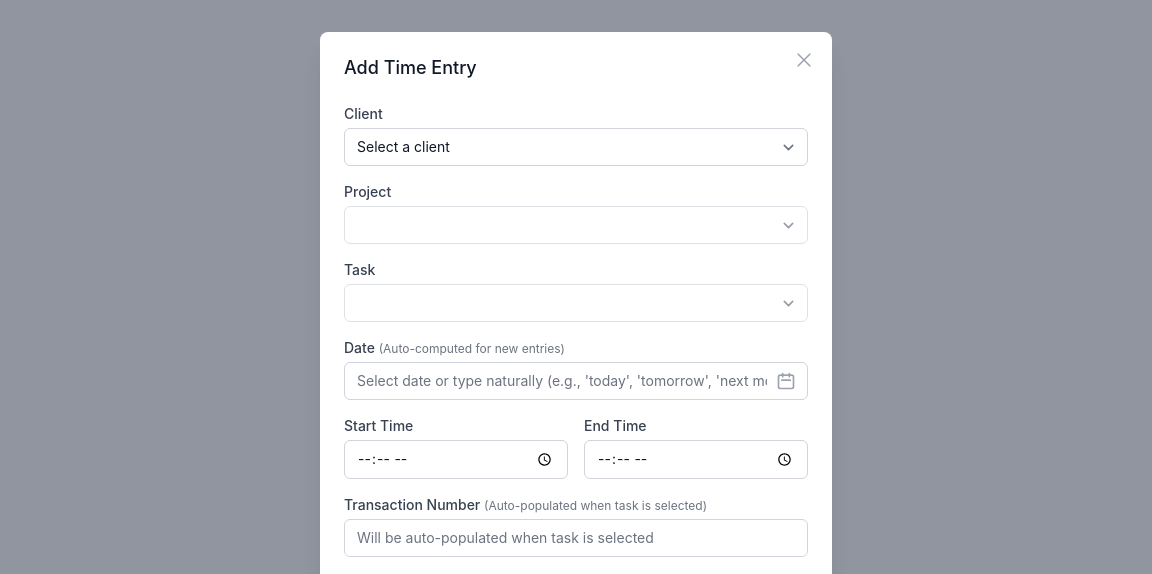
Test case: TimeEntryModal › calculates hours correctly based on start and end time
Replace the text in the field with id "date" with "2023-01-01" at (576, 381), box [344, 362, 808, 400]
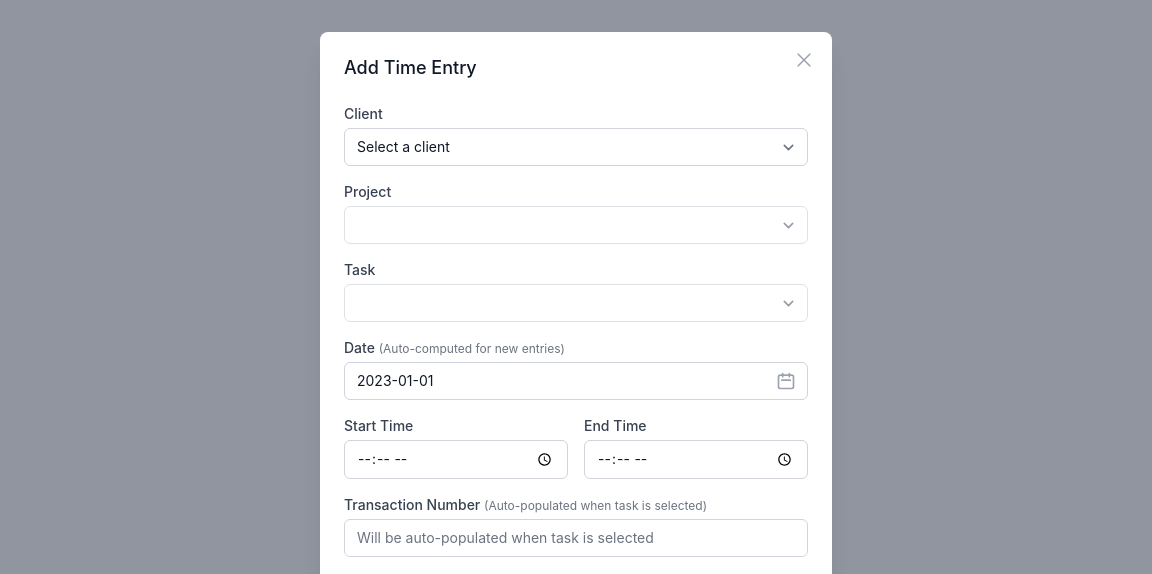
Type "09:00" into the time field with id "start_time".
click(456, 459); type("09:00")  # box [344, 440, 568, 479]
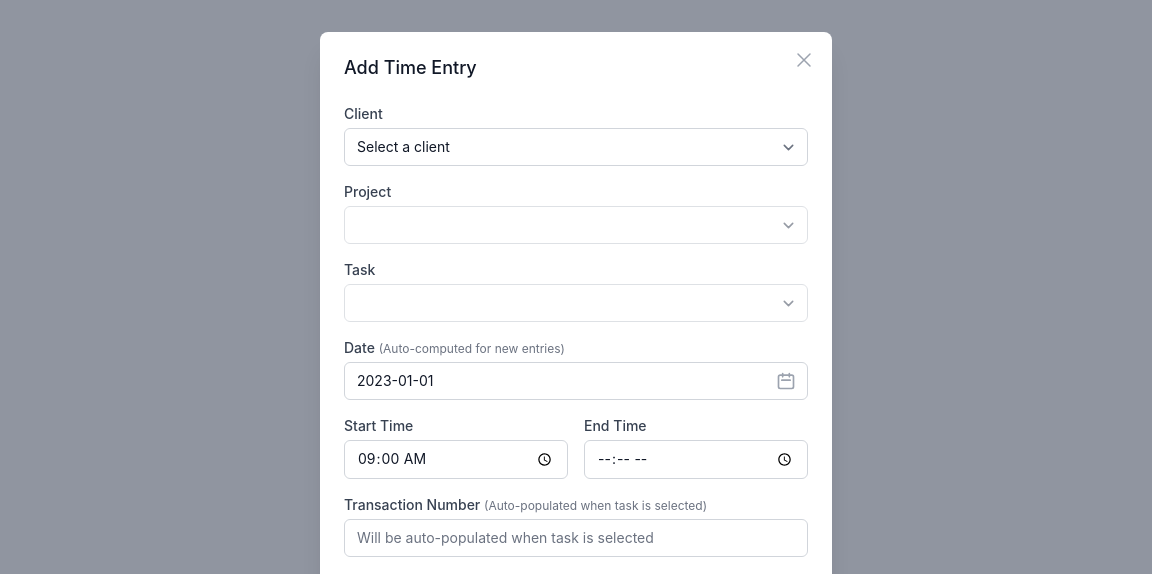
Type "17:00" into the time field with id "end_time".
click(696, 459); type("17:00")  # box [584, 440, 808, 479]
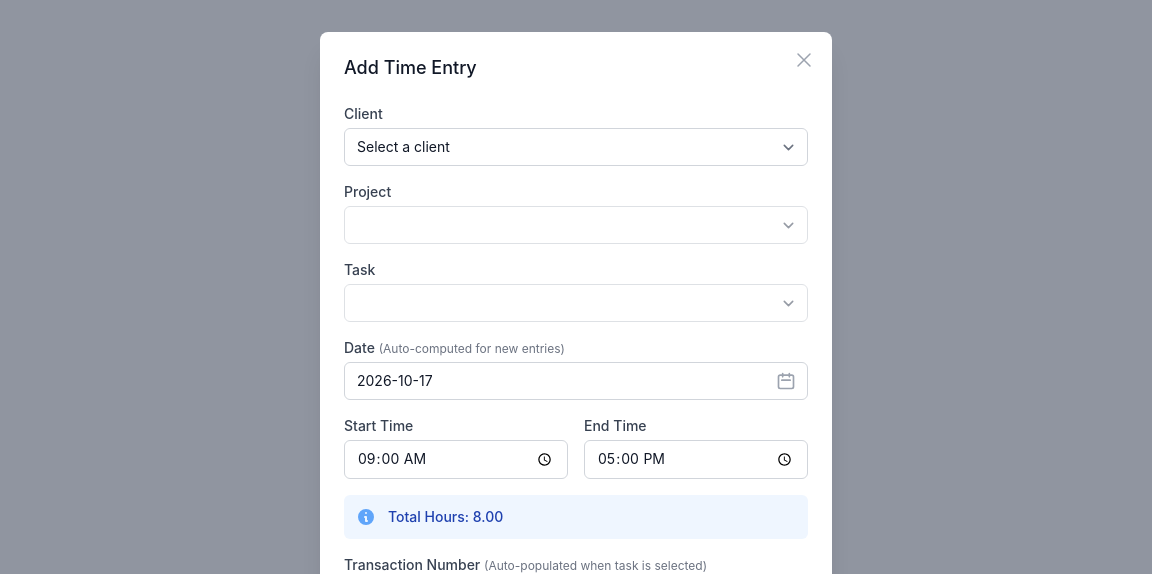
Expected: the text "Total Hours: 8.00" is shown, [388, 507, 503, 527]
